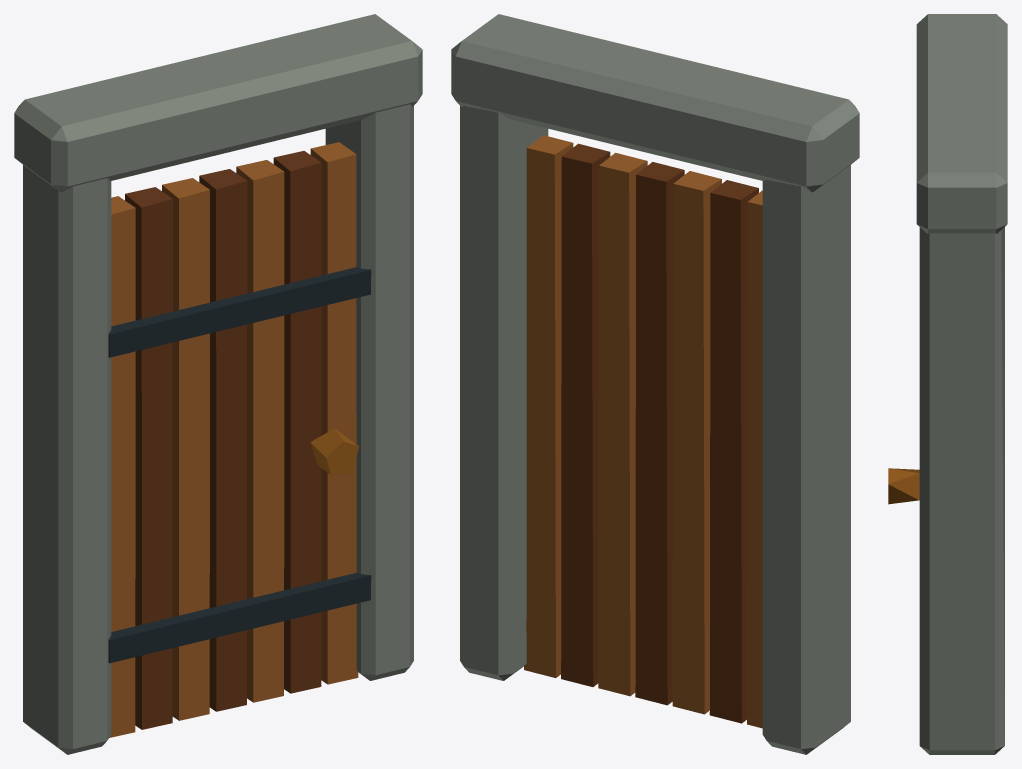
The model's file is Porta_de_madeira_LOD1.fbx.
The picture shows the model from 3 angles, left to right: view 1: azimuth 30°, elevation 25°; view 2: azimuth 150°, elevation 25°; view 3: azimuth 270°, elevation 25°; orthographic projection. The views are drawn at different scales.
Parts seen in each view (by area): view 1: Porta_de_madeira_LOD1; view 2: Porta_de_madeira_LOD1; view 3: Porta_de_madeira_LOD1.
Boxes of the visible parts, bbox=[...] form: Porta_de_madeira_LOD1: bbox=[14, 14, 422, 754]; Porta_de_madeira_LOD1: bbox=[451, 14, 859, 754]; Porta_de_madeira_LOD1: bbox=[888, 14, 1007, 754].
Size of the model in its own units: 140 by 227 by 42.
1 material, 1 textured.
